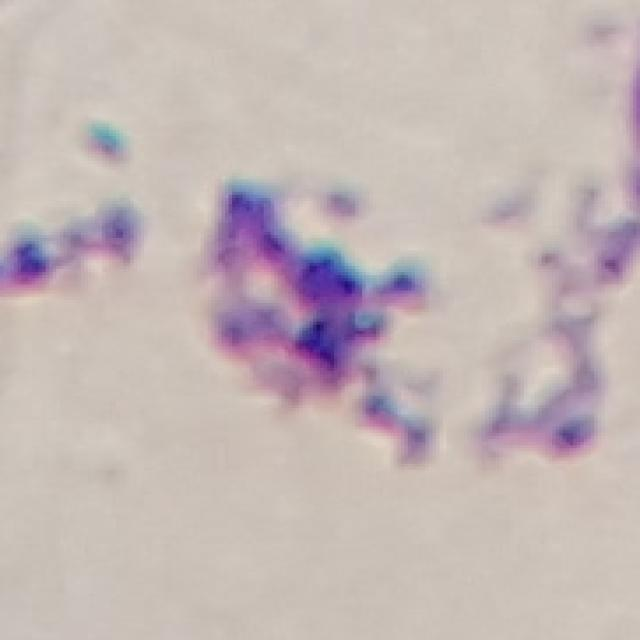non-sperm: (211, 183, 439, 467)
